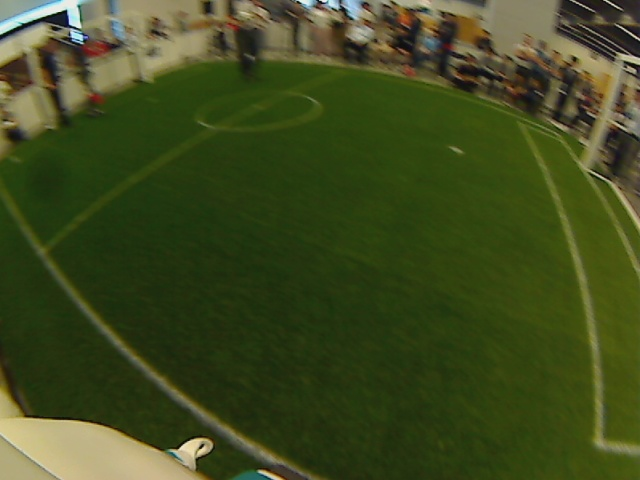goalpost: (566, 142, 602, 181), (129, 66, 166, 97), (37, 106, 69, 136)
